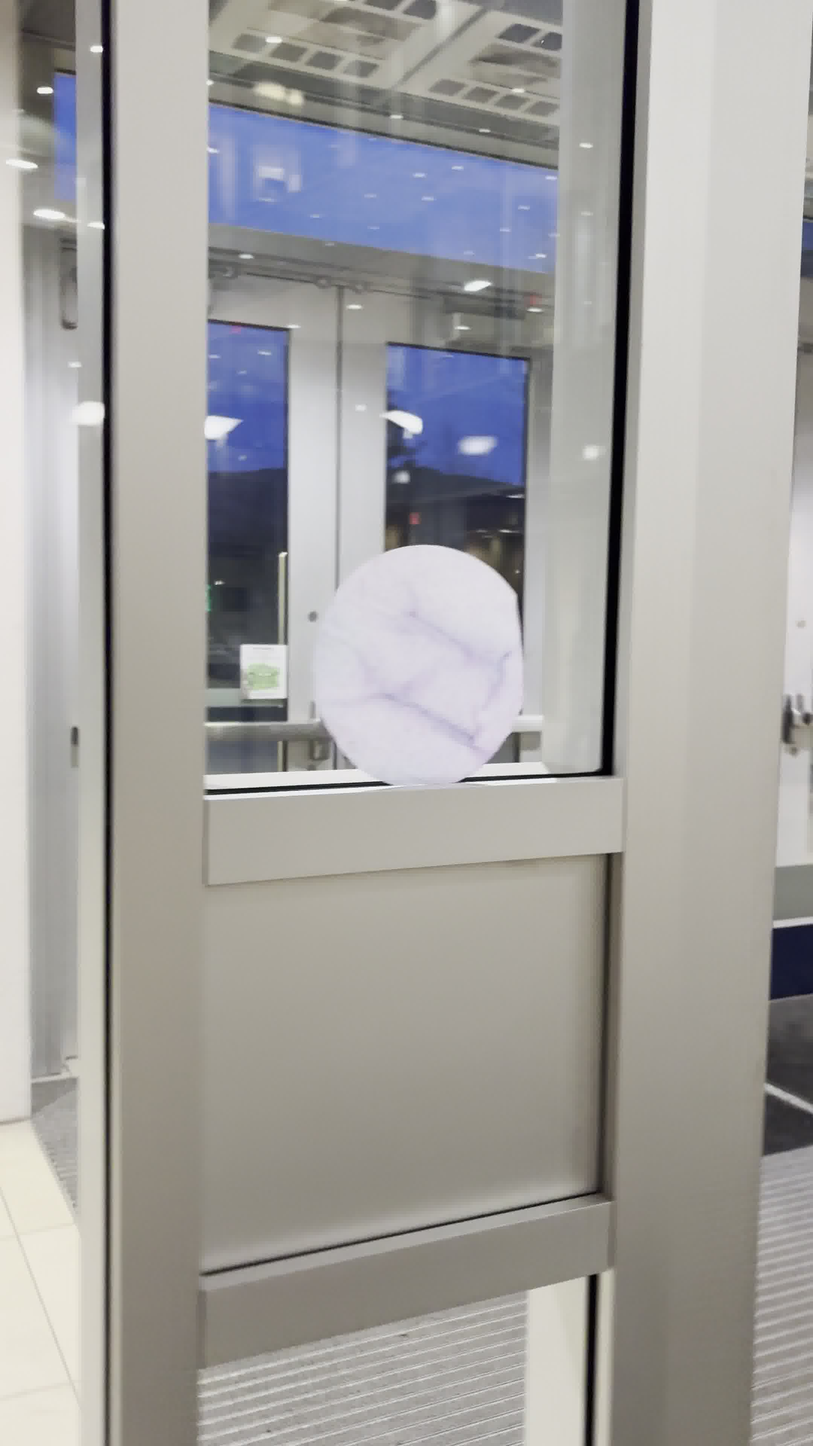Target: (316, 544, 524, 785)
